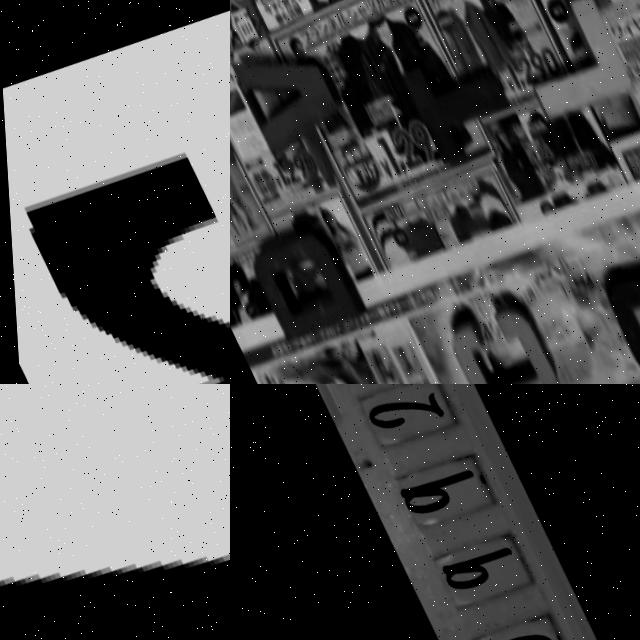0: (461, 599, 560, 640)
1: (0, 386, 230, 640)
2: (350, 384, 449, 449)
9: (384, 443, 487, 532), (423, 517, 524, 606)
C: (435, 286, 565, 384)
D: (233, 205, 360, 348)
L: (494, 0, 640, 128)
O: (588, 231, 640, 384)
R: (0, 0, 230, 384)
T: (396, 33, 526, 170)
V: (230, 24, 349, 158)
